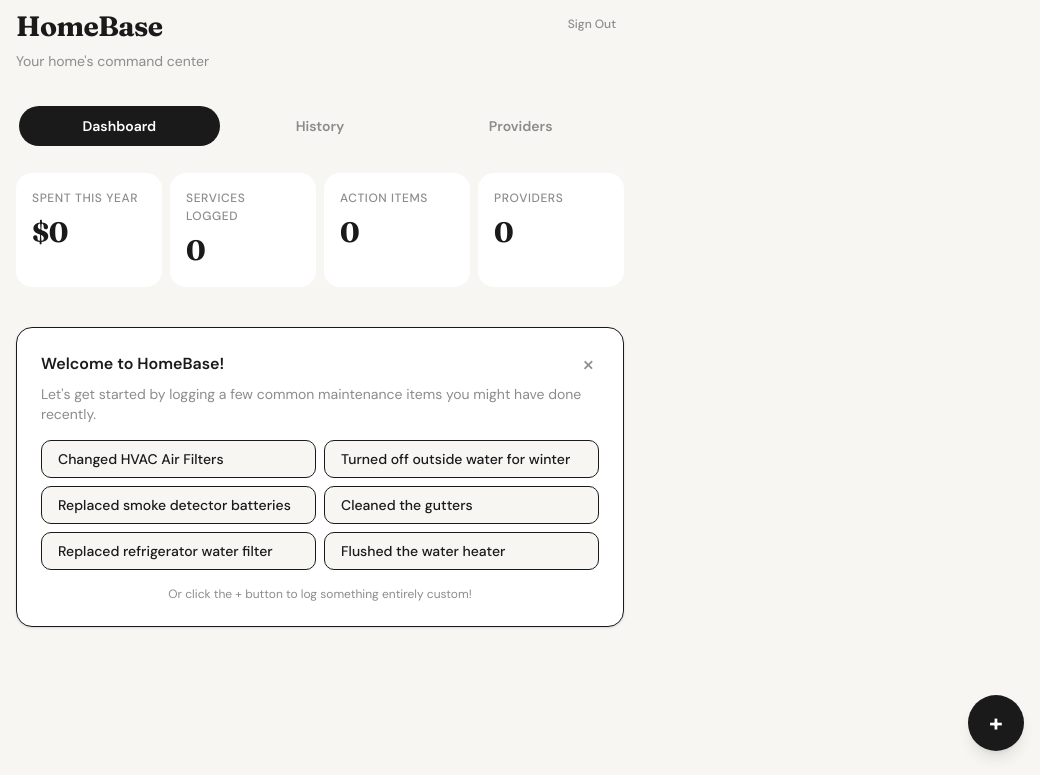
Test: App › switches to History tab
Click the button "History": (320, 126) x1=220 y1=106 x2=420 y2=146
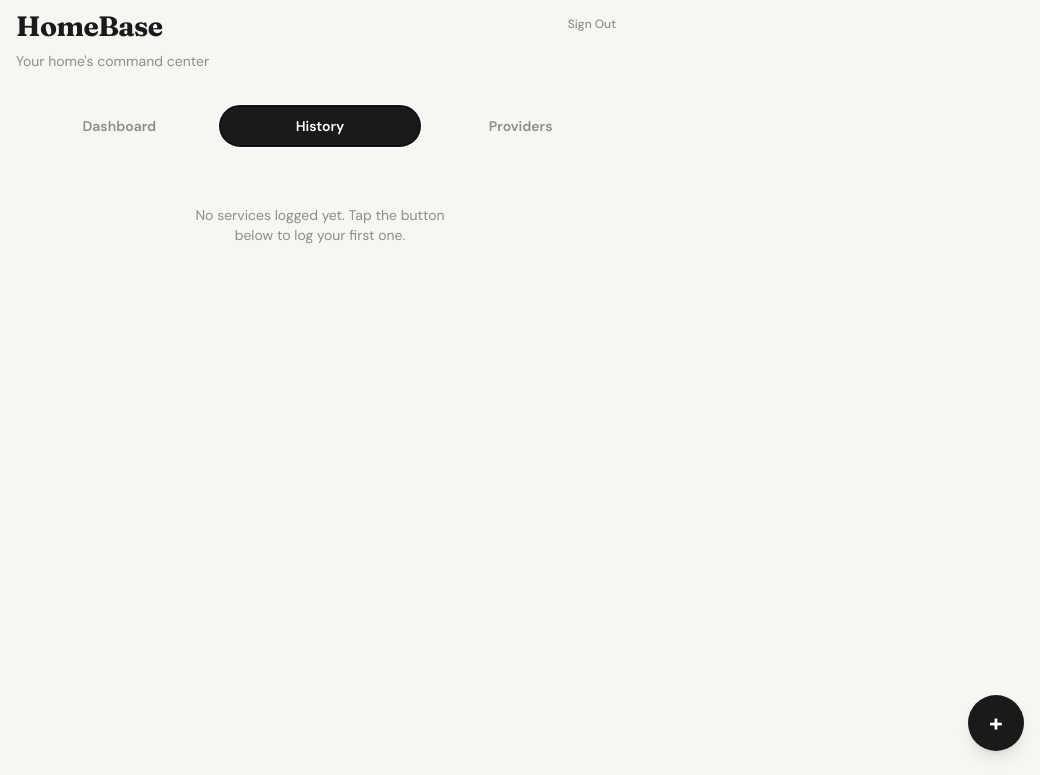
Result: the text "No services logged yet" is shown at x1=195 y1=206 x2=444 y2=244
